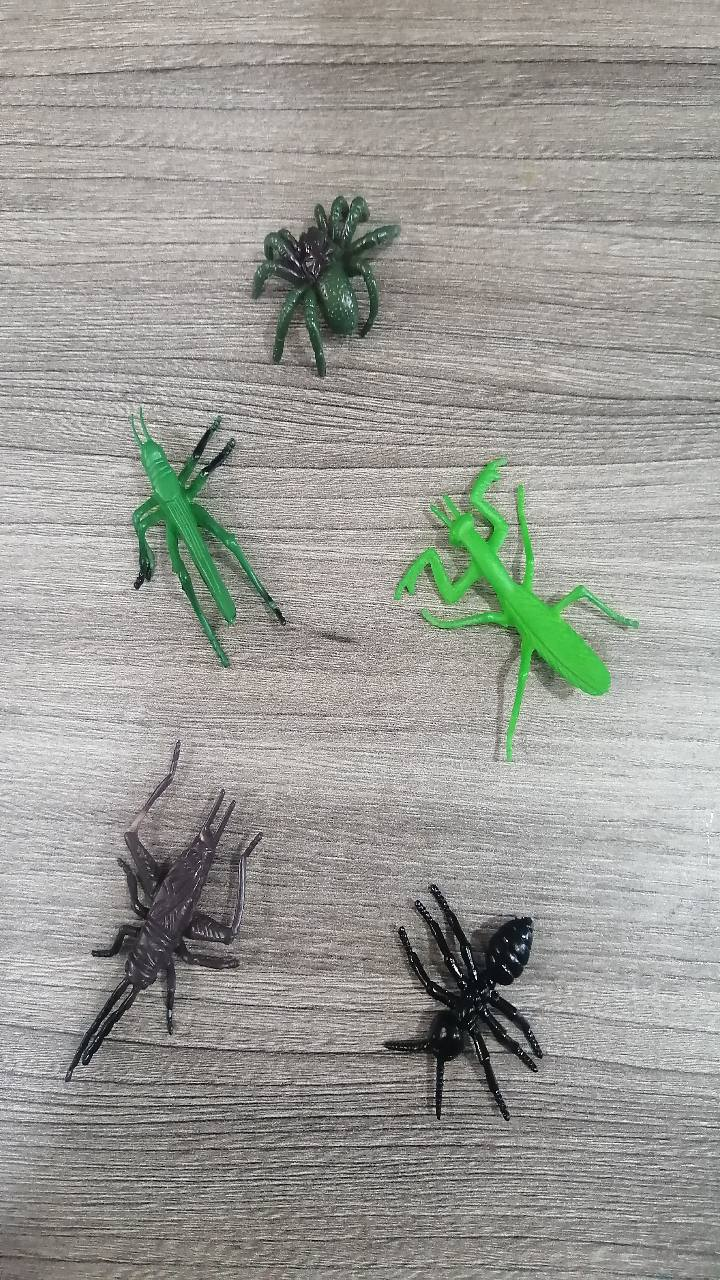intruso: (366, 429, 648, 757), (46, 720, 261, 1111), (74, 379, 318, 691), (364, 854, 577, 1140), (218, 165, 423, 379)
